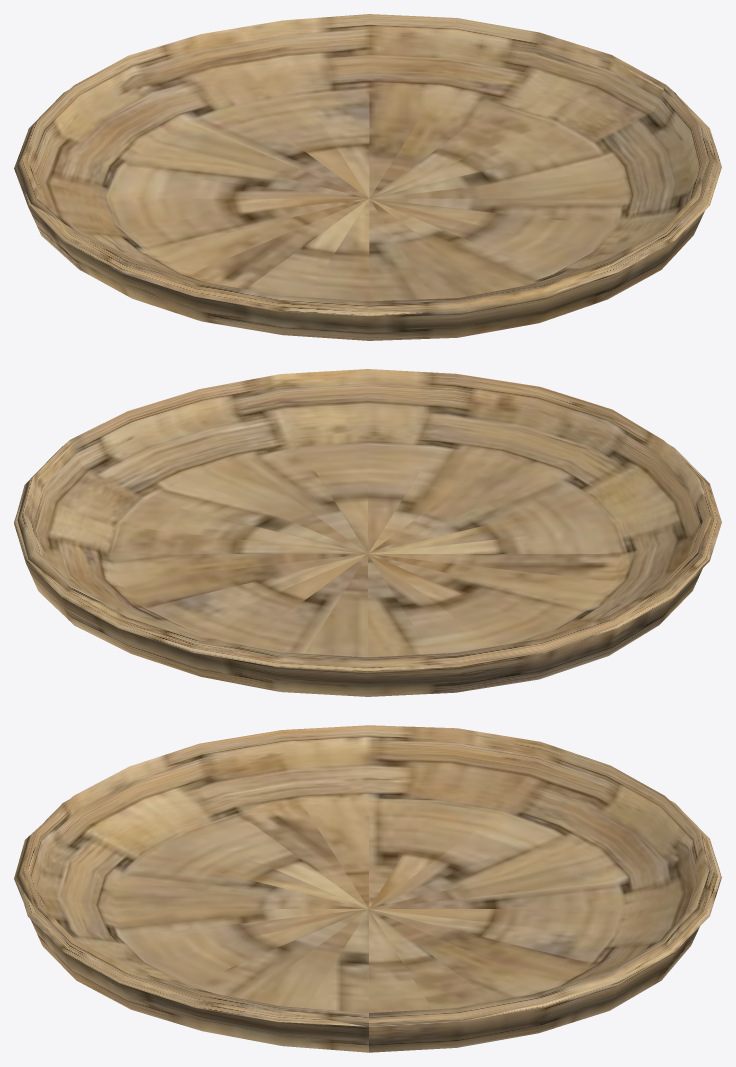
Rendered from prop_kula_lod1.glb.
3 renders of one model, top to bottom at view 1: azimuth 30°, elevation 25°; view 2: azimuth 150°, elevation 25°; view 3: azimuth 270°, elevation 25°, orthographic.
Parts seen in each view (by area): view 1: prop_kula; view 2: prop_kula; view 3: prop_kula.
Boxes of the visible parts, bbox=[...] form: prop_kula: bbox=[14, 14, 721, 340]; prop_kula: bbox=[14, 369, 721, 696]; prop_kula: bbox=[14, 725, 721, 1052].
Size of the model in its own units: 0.5 by 0.045 by 0.5.
Materials: 1 (1 with a texture image).
